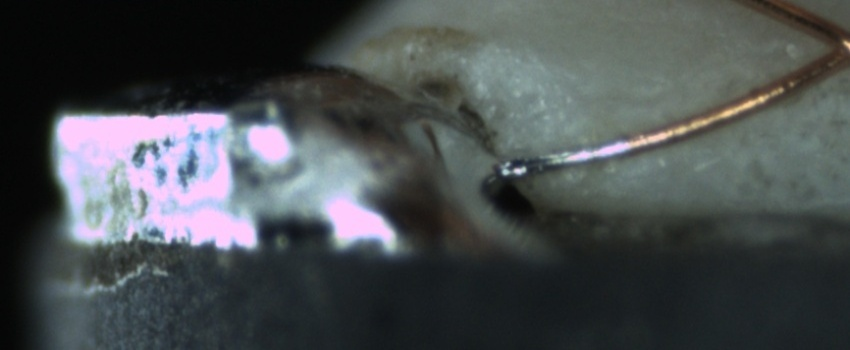CL: (804, 12, 850, 81)
TS: (492, 130, 635, 182)
